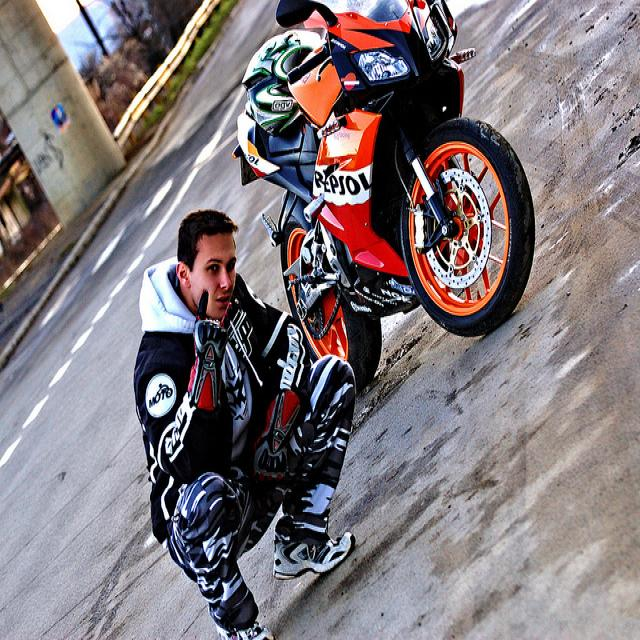motor: (234, 1, 537, 383)
